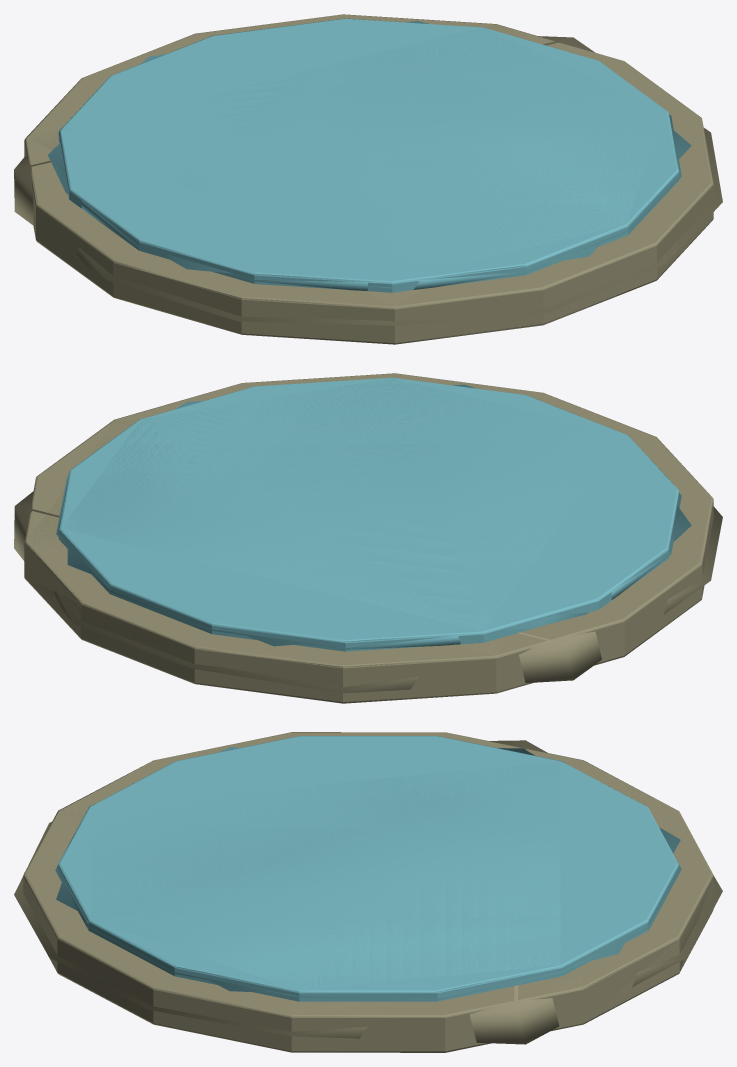
The model's file is SM_Warmerdamm_Pond.fbx.
3 views of the same model, one above another, from view 1: azimuth 30°, elevation 25°; view 2: azimuth 150°, elevation 25°; view 3: azimuth 270°, elevation 25° (orthographic).
Visible parts, largest first — view 1: LOD0_SM_Warmerdamm_Pond, LOD1_SM_Warmerdamm_Pond, LOD3_SM_Warmerdamm_Pond, LOD2_SM_Warmerdamm_Pond; view 2: LOD0_SM_Warmerdamm_Pond, LOD1_SM_Warmerdamm_Pond, LOD3_SM_Warmerdamm_Pond, LOD2_SM_Warmerdamm_Pond; view 3: LOD0_SM_Warmerdamm_Pond, LOD1_SM_Warmerdamm_Pond, LOD3_SM_Warmerdamm_Pond, LOD2_SM_Warmerdamm_Pond.
Part boxes in pixels (<box>): LOD0_SM_Warmerdamm_Pond: <box>24,14,713,344</box>; LOD1_SM_Warmerdamm_Pond: <box>24,14,713,343</box>; LOD3_SM_Warmerdamm_Pond: <box>14,21,722,325</box>; LOD2_SM_Warmerdamm_Pond: <box>25,14,713,344</box>; LOD0_SM_Warmerdamm_Pond: <box>24,373,713,702</box>; LOD1_SM_Warmerdamm_Pond: <box>24,373,713,703</box>; LOD3_SM_Warmerdamm_Pond: <box>14,384,722,693</box>; LOD2_SM_Warmerdamm_Pond: <box>24,382,709,703</box>; LOD0_SM_Warmerdamm_Pond: <box>23,732,713,1052</box>; LOD1_SM_Warmerdamm_Pond: <box>23,732,712,1052</box>; LOD3_SM_Warmerdamm_Pond: <box>14,740,722,1044</box>; LOD2_SM_Warmerdamm_Pond: <box>28,732,713,1052</box>.
Bounding box in the file's own units: 3 × 0.2304 × 3.08.
